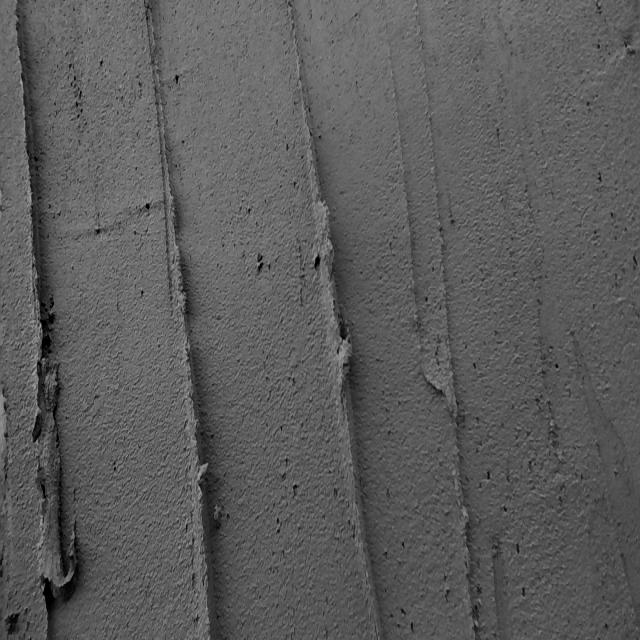trowels marks: (406, 0, 491, 633), (290, 9, 374, 640), (144, 25, 224, 640), (13, 0, 81, 617)
